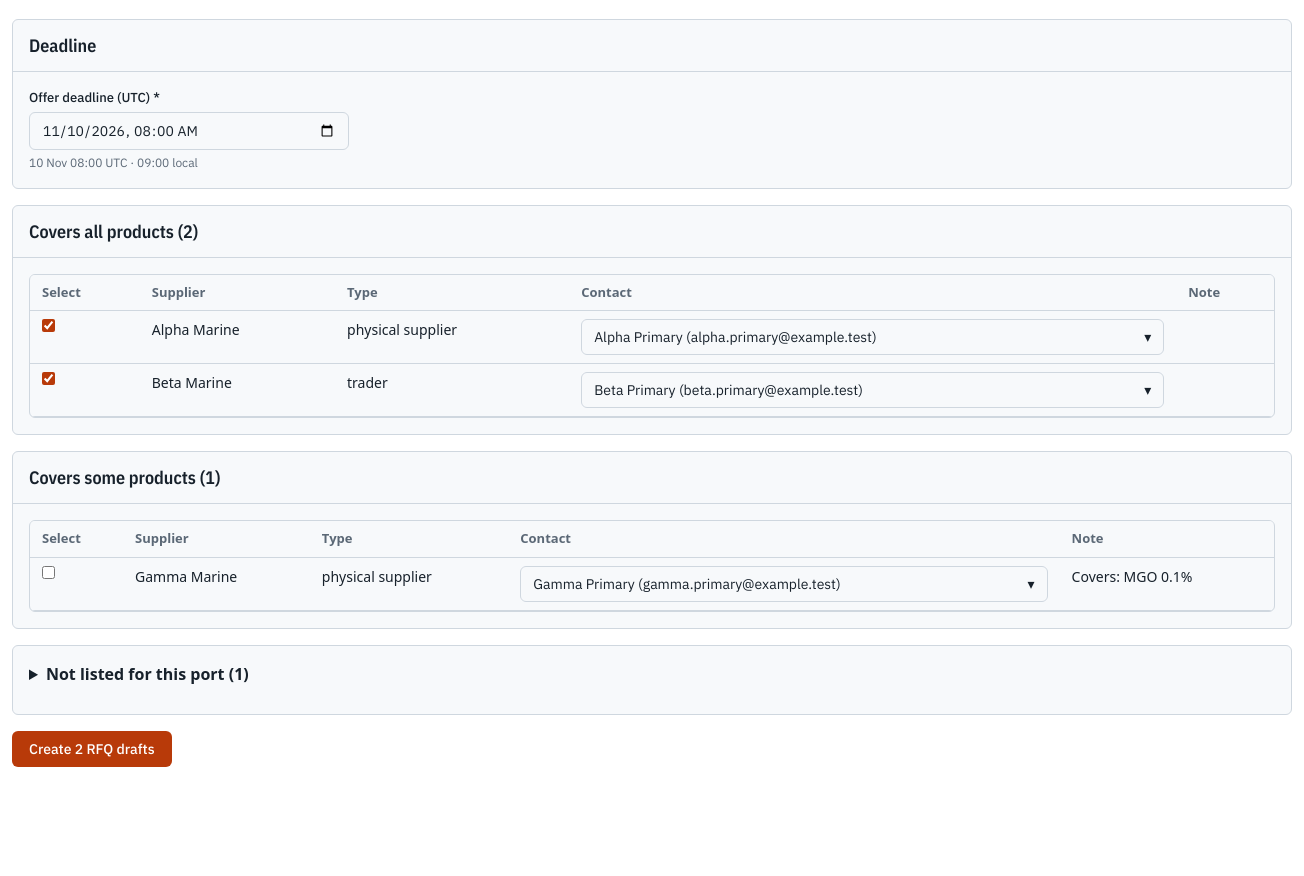
Scenario: SupplierSelection › [B3-R13] a 422 on the deadline appears on the deadline field
Click the button "Create 2 RFQ drafts": (92, 748) [12, 730, 172, 766]
(page scrolled)
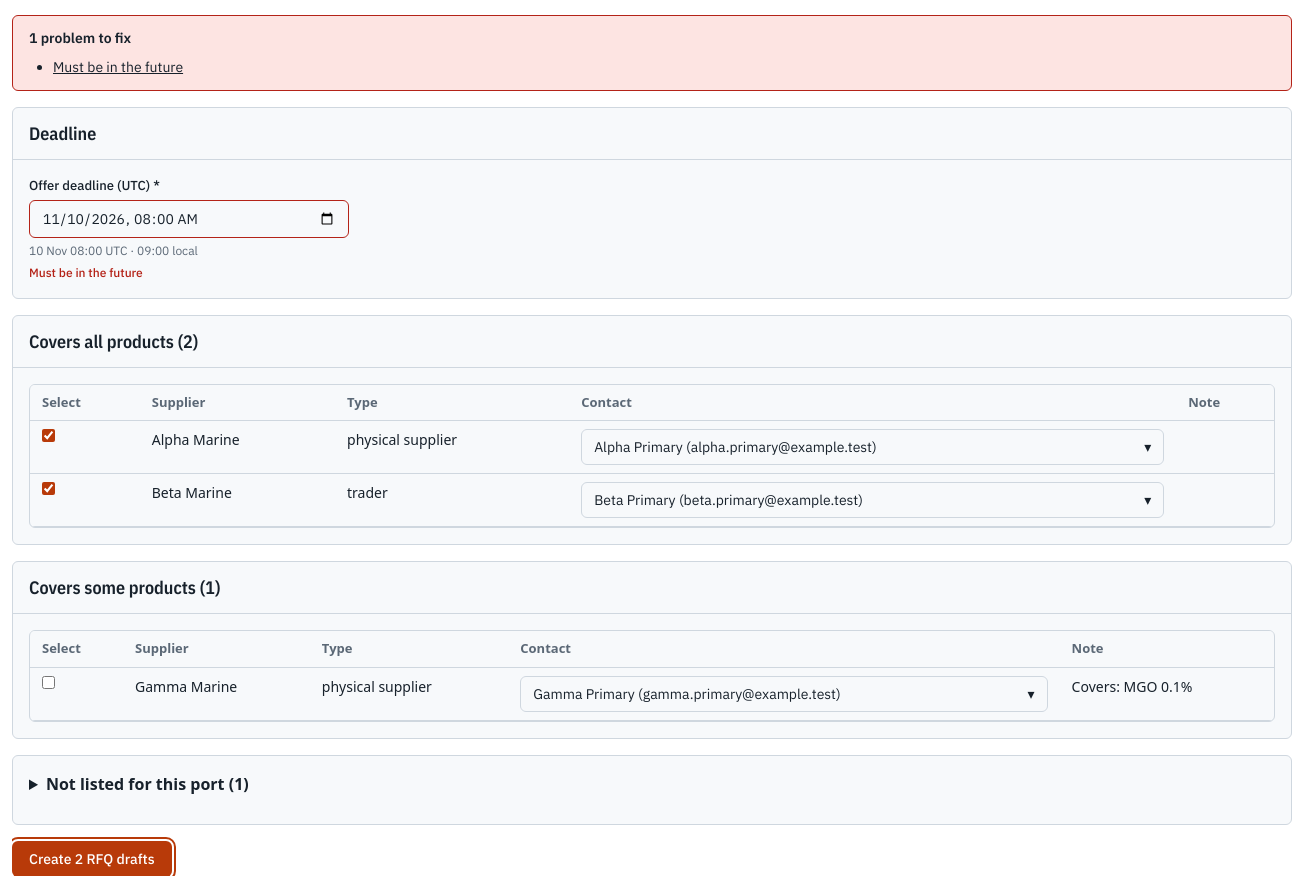
Result: the link "Must be in the future" is shown at [53, 58, 183, 76]
